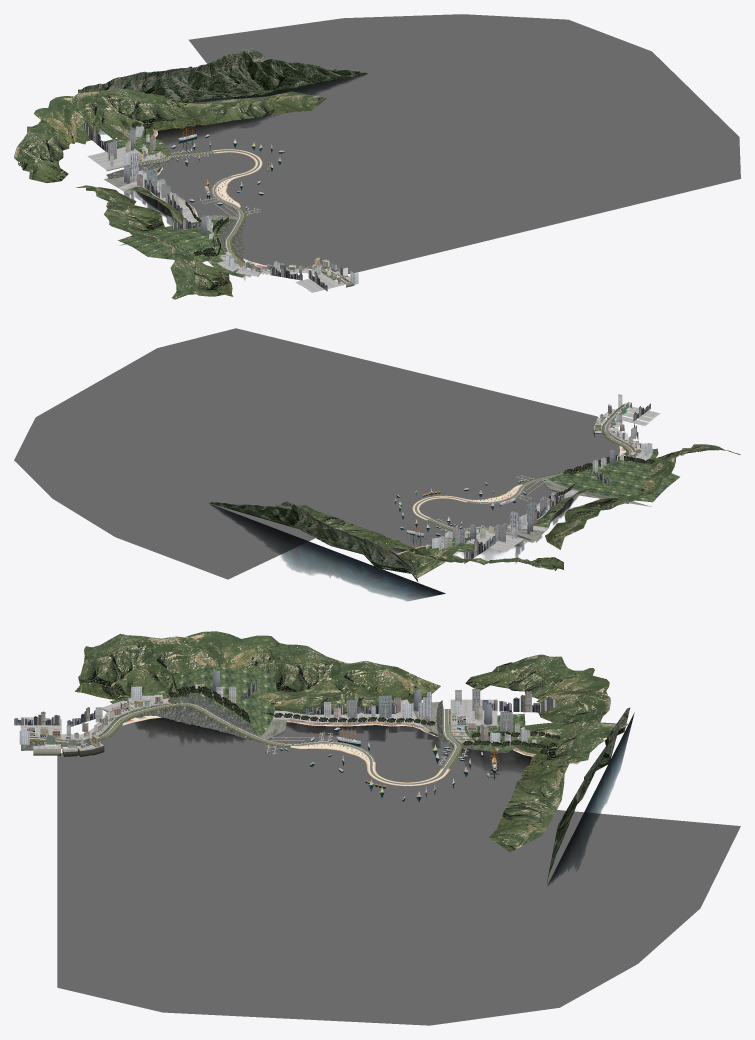
File: stage-beac.glb
3 views of the same model, one above another, from view 1: azimuth 30°, elevation 25°; view 2: azimuth 150°, elevation 25°; view 3: azimuth 270°, elevation 25° (orthographic). The views are drawn at different scales.
Visible parts, largest first — view 1: part 5 chunk 11,-6, part 5 chunk 4,-6, part 5 chunk 8,-13, part 1 chunk 0,-12, part 5 chunk 5,-8, part 5 chunk 12,-12, part 5 chunk 4,-3, part 5 chunk 5,-14, part 1 chunk -4,-6, part 5 chunk 6,-11, part 5 chunk -1,-8, part 1 chunk 3,-13 (+21 smaller); view 2: part 5 chunk 11,-6, part 5 chunk 4,-6, part 5 chunk 8,-13, part 5 chunk 5,-8, part 5 chunk 12,-12, part 5 chunk 4,-3, part 5 chunk 5,-14, part 1 chunk 2,-14, part 5 chunk 6,-11, part 5 chunk -1,-8, part 1 chunk -3,-5, part 1 chunk -4,-6 (+18 smaller); view 3: part 5 chunk 11,-6, part 5 chunk 4,-6, part 5 chunk 8,-13, part 5 chunk 5,-8, part 1 chunk -4,-6, part 5 chunk 12,-12, part 5 chunk 4,-3, part 5 chunk 5,-14, part 1 chunk 0,-12, part 5 chunk 6,-11, part 5 chunk -1,-8, part 1 chunk -3,-5 (+30 smaller).
Boxes of the visible parts, left/top/right/bottom form: part 5 chunk 11,-6: left=472, top=51, right=740, bottom=216; part 5 chunk 4,-6: left=282, top=149, right=542, bottom=241; part 5 chunk 8,-13: left=322, top=14, right=471, bottom=101; part 1 chunk 0,-12: left=14, top=88, right=326, bottom=183; part 5 chunk 5,-8: left=295, top=94, right=522, bottom=176; part 5 chunk 12,-12: left=462, top=14, right=651, bottom=94; part 5 chunk 4,-3: left=309, top=186, right=584, bottom=263; part 5 chunk 5,-14: left=189, top=18, right=342, bottom=98; part 1 chunk -4,-6: left=76, top=185, right=233, bottom=299; part 5 chunk 6,-11: left=265, top=94, right=470, bottom=144; part 5 chunk -1,-8: left=136, top=152, right=254, bottom=217; part 1 chunk 3,-13: left=159, top=48, right=260, bottom=102; part 5 chunk 11,-6: left=36, top=328, right=379, bottom=458; part 5 chunk 4,-6: left=282, top=392, right=554, bottom=477; part 5 chunk 8,-13: left=53, top=458, right=280, bottom=536; part 5 chunk 5,-8: left=201, top=415, right=435, bottom=494; part 5 chunk 12,-12: left=14, top=417, right=199, bottom=498; part 5 chunk 4,-3: left=342, top=363, right=556, bottom=445; part 5 chunk 5,-14: left=116, top=513, right=314, bottom=579; part 1 chunk 2,-14: left=211, top=504, right=445, bottom=601; part 5 chunk 6,-11: left=201, top=458, right=377, bottom=510; part 5 chunk -1,-8: left=420, top=480, right=573, bottom=528; part 1 chunk -3,-5: left=548, top=460, right=679, bottom=502; part 1 chunk -4,-6: left=545, top=444, right=740, bottom=549; part 5 chunk 11,-6: left=57, top=895, right=431, bottom=1025; part 5 chunk 4,-6: left=159, top=756, right=328, bottom=908; part 5 chunk 8,-13: left=432, top=848, right=699, bottom=963; part 5 chunk 5,-8: left=263, top=793, right=431, bottom=918; part 1 chunk -4,-6: left=75, top=631, right=440, bottom=703; part 5 chunk 12,-12: left=429, top=919, right=636, bottom=1025; part 5 chunk 4,-3: left=57, top=757, right=164, bottom=895; part 5 chunk 5,-14: left=514, top=810, right=740, bottom=907; part 1 chunk 0,-12: left=465, top=654, right=610, bottom=851; part 5 chunk 6,-11: left=414, top=803, right=503, bottom=918; part 5 chunk -1,-8: left=268, top=722, right=453, bottom=781; part 1 chunk -3,-5: left=165, top=665, right=276, bottom=736.
Size of the model in its own units: 5986 by 730 by 4980.
136 materials, 133 textured.
